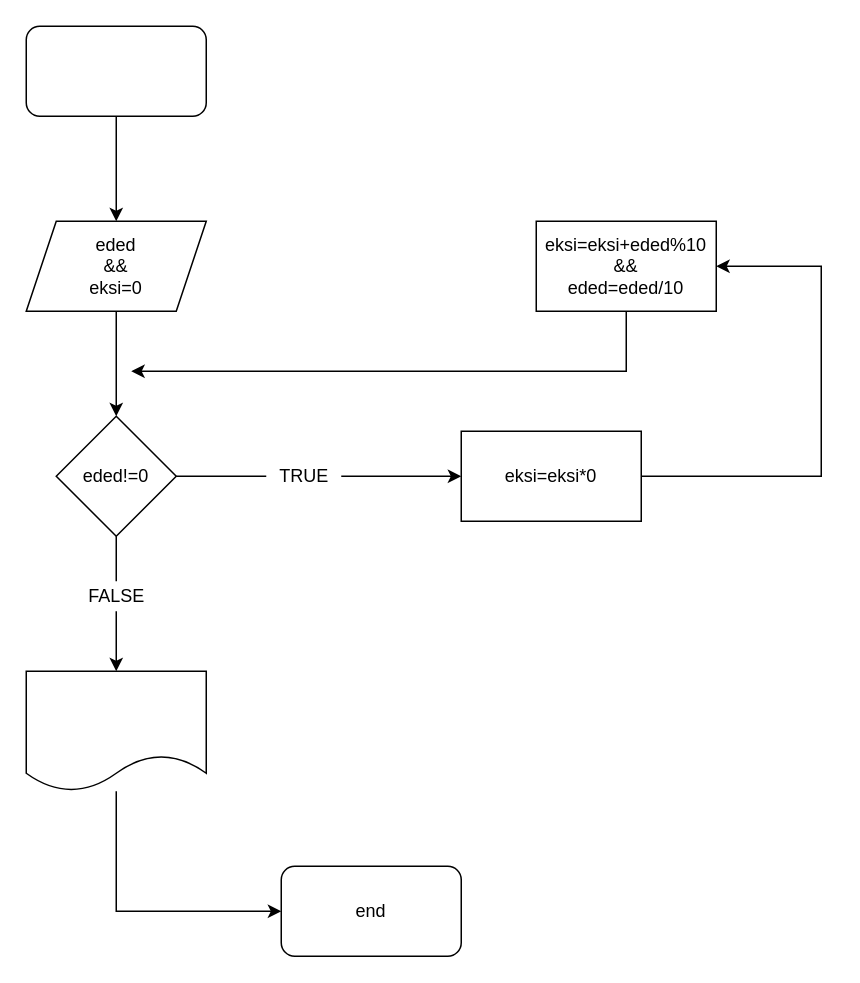
Image size: 860x983. Some labels were removed from this diagram. Here are the shapes that lost their labels. From the top down, the centre of each, then its label:
At point (115, 70): "START".
At point (115, 730): "eksi".
